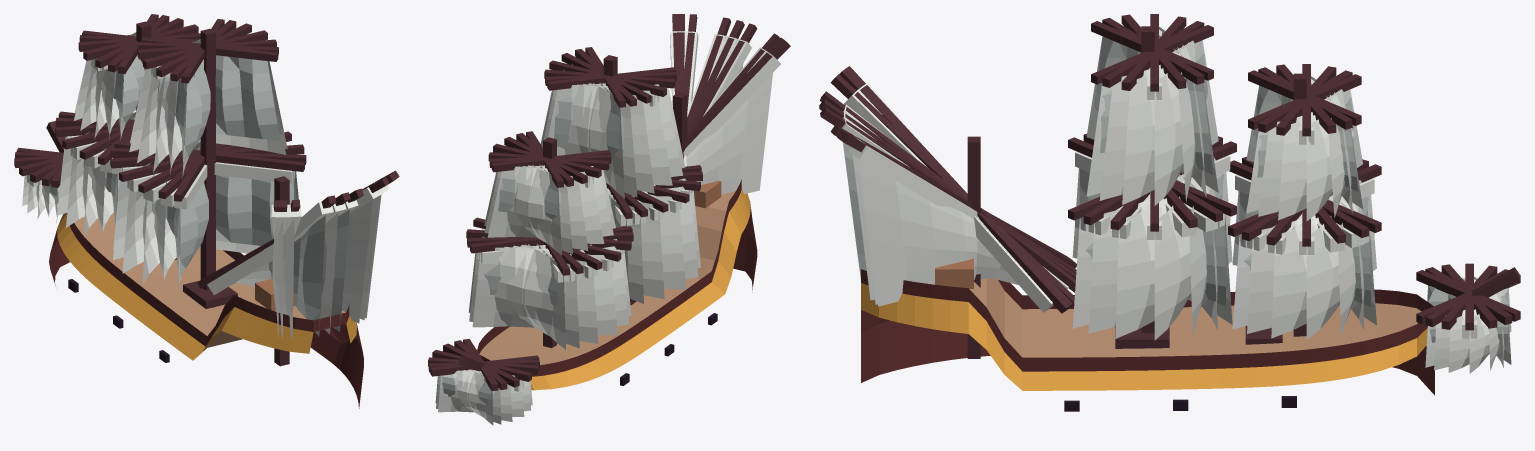
File: ship.fluyt.glb
The picture shows the model from 3 angles, left to right: view 1: azimuth 30°, elevation 25°; view 2: azimuth 150°, elevation 25°; view 3: azimuth 270°, elevation 25°; orthographic projection. The views are drawn at different scales.
Parts seen in each view (by area): view 1: hull, bulwark, full_irons_p0_main_top, main, full_irons_p1_main_course, full_broad_p_lateen, full_irons_p1_main_top, full_irons_s1_lateen, full_irons_p0_main_course, full_run_main_course, full_irons_p1_lateen, full_run_lateen (+61 smaller); view 2: hull, full_close_s_lateen, bulwark, full_broad_p_fore_course, full_broad_p_main_top, full_beam_p_fore_course, full_beam_s_fore_course, full_broad_s_fore_course, full_run_main_course, full_broad_s_main_top, full_broad_p_fore_top, full_broad_p_main_course (+67 smaller); view 3: hull, full_close_p_lateen, bulwark, full_broad_p_main_course, full_run_main_course, full_broad_p_main_top, full_broad_p_fore_course, full_run_main_top, full_beam_p_main_course, full_run_fore_course, full_beam_p_main_top, full_broad_p_fore_top (+60 smaller).
Part boxes in pixels (x1,y1,x2,y2): hull: (49, 212, 363, 408); bulwark: (66, 213, 349, 346); full_irons_p0_main_top: (175, 56, 279, 140); main: (200, 28, 215, 290); full_irons_p1_main_course: (145, 175, 252, 244); full_broad_p_lateen: (341, 200, 372, 323); full_irons_p1_main_top: (157, 55, 244, 136); full_irons_s1_lateen: (297, 215, 325, 319); full_irons_p0_main_course: (167, 171, 293, 245); full_run_main_course: (122, 145, 200, 273); full_irons_p1_lateen: (268, 209, 349, 313); full_run_lateen: (320, 213, 338, 334); hull: (477, 189, 757, 390); full_close_s_lateen: (686, 73, 772, 194); bulwark: (477, 179, 741, 376); full_broad_p_fore_course: (523, 244, 598, 343); full_broad_p_main_top: (571, 64, 654, 193); full_beam_p_fore_course: (527, 244, 579, 348); full_beam_s_fore_course: (469, 239, 631, 327); full_broad_s_fore_course: (468, 236, 629, 327); full_run_main_course: (608, 191, 686, 289); full_broad_s_main_top: (540, 84, 683, 176); full_broad_p_fore_top: (514, 147, 588, 250); full_broad_p_main_course: (608, 193, 664, 299); hull: (861, 278, 1434, 395); full_close_p_lateen: (861, 160, 977, 306); bulwark: (861, 269, 1433, 371); full_broad_p_main_course: (1115, 182, 1189, 338); full_run_main_course: (1154, 182, 1191, 340); full_broad_p_main_top: (1122, 30, 1185, 204); full_broad_p_fore_course: (1271, 199, 1355, 338); full_run_main_top: (1154, 27, 1183, 205); full_beam_p_main_course: (1088, 177, 1214, 333); full_run_fore_course: (1306, 216, 1339, 339); full_beam_p_main_top: (1099, 42, 1195, 200); full_broad_p_fore_top: (1278, 92, 1354, 220).
Bounding box in the file's own units: 1.06 × 1.86 × 3.23.
